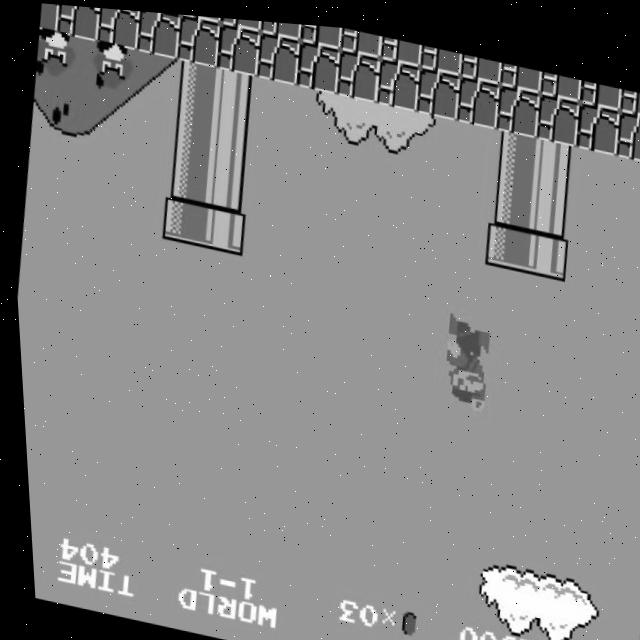0- big_mario: (433, 305, 494, 408)
14- pipe: (528, 129, 578, 183), (484, 166, 534, 220), (209, 64, 259, 118), (165, 101, 215, 155), (524, 174, 573, 228), (489, 121, 538, 175), (205, 109, 254, 163), (170, 56, 219, 110), (201, 155, 250, 208), (161, 146, 210, 199)
15- pipe_head: (197, 199, 246, 253), (157, 191, 206, 245), (520, 220, 569, 273), (480, 212, 529, 265)
17- undestructible_block: (373, 52, 423, 106), (293, 36, 343, 90), (573, 92, 622, 146), (533, 84, 582, 138), (493, 76, 542, 130), (453, 68, 502, 122), (413, 60, 462, 114), (333, 44, 382, 98), (254, 27, 303, 81), (214, 19, 263, 73), (174, 11, 223, 65), (134, 9, 183, 57), (94, 6, 143, 49), (55, 4, 104, 41), (612, 100, 640, 153), (458, 46, 504, 77), (378, 30, 424, 61), (338, 22, 384, 53), (578, 70, 623, 101), (538, 62, 583, 93), (498, 54, 543, 85), (418, 38, 463, 69), (299, 19, 344, 44), (259, 17, 304, 36), (38, 2, 63, 33), (617, 78, 640, 108), (219, 14, 264, 28), (180, 12, 224, 20)
8- goomba: (88, 37, 140, 95), (33, 26, 83, 83)
